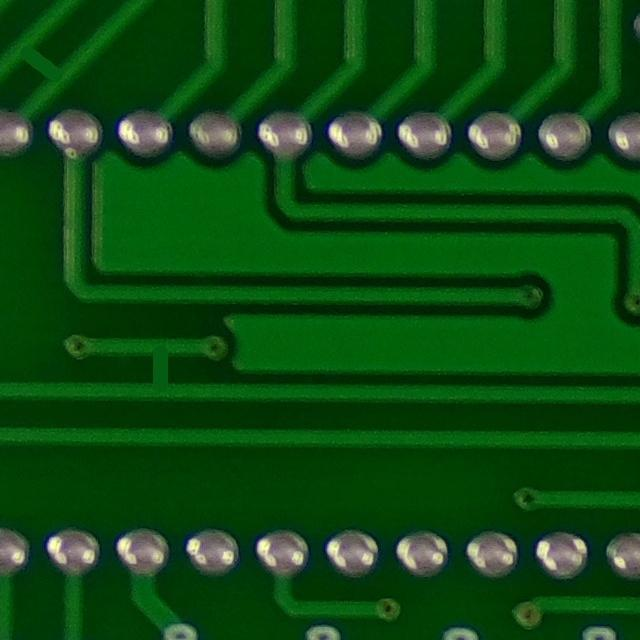short: (0, 34, 76, 96), (124, 334, 184, 401)
